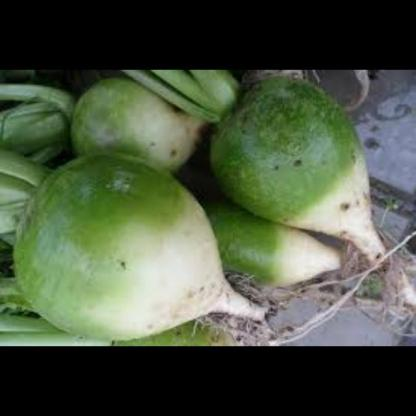redka: (11, 150, 259, 340), (204, 82, 388, 270), (67, 80, 218, 182), (205, 204, 349, 295), (104, 308, 250, 347)
